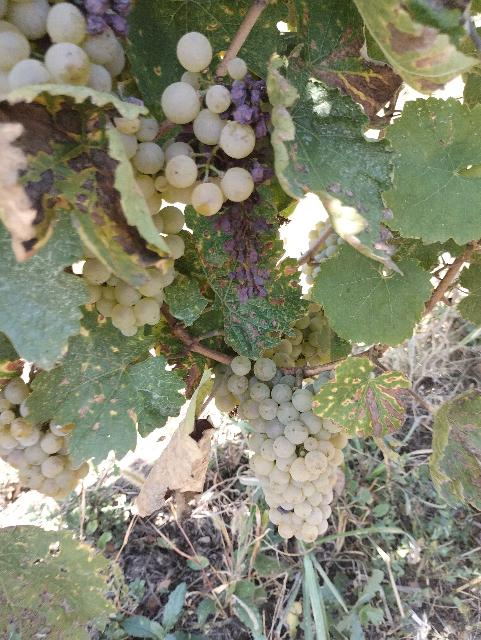grapes: (114, 32, 275, 222), (215, 356, 349, 542), (0, 376, 90, 501)
